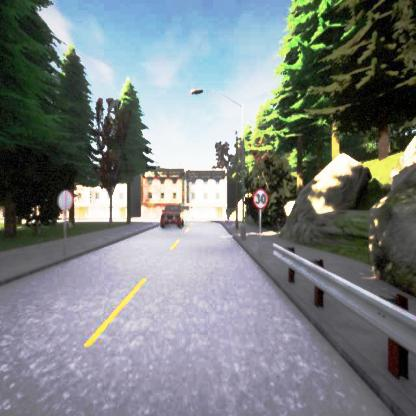vehicle: (159, 205, 183, 228)
